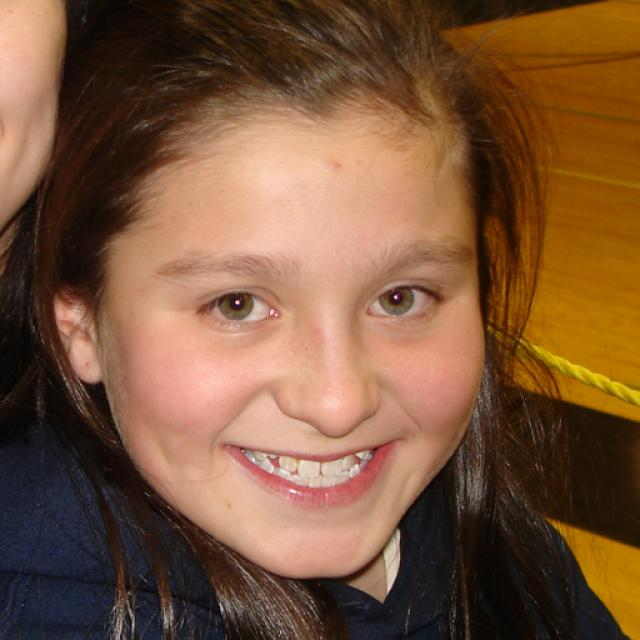Acne: (311, 150, 349, 177)
